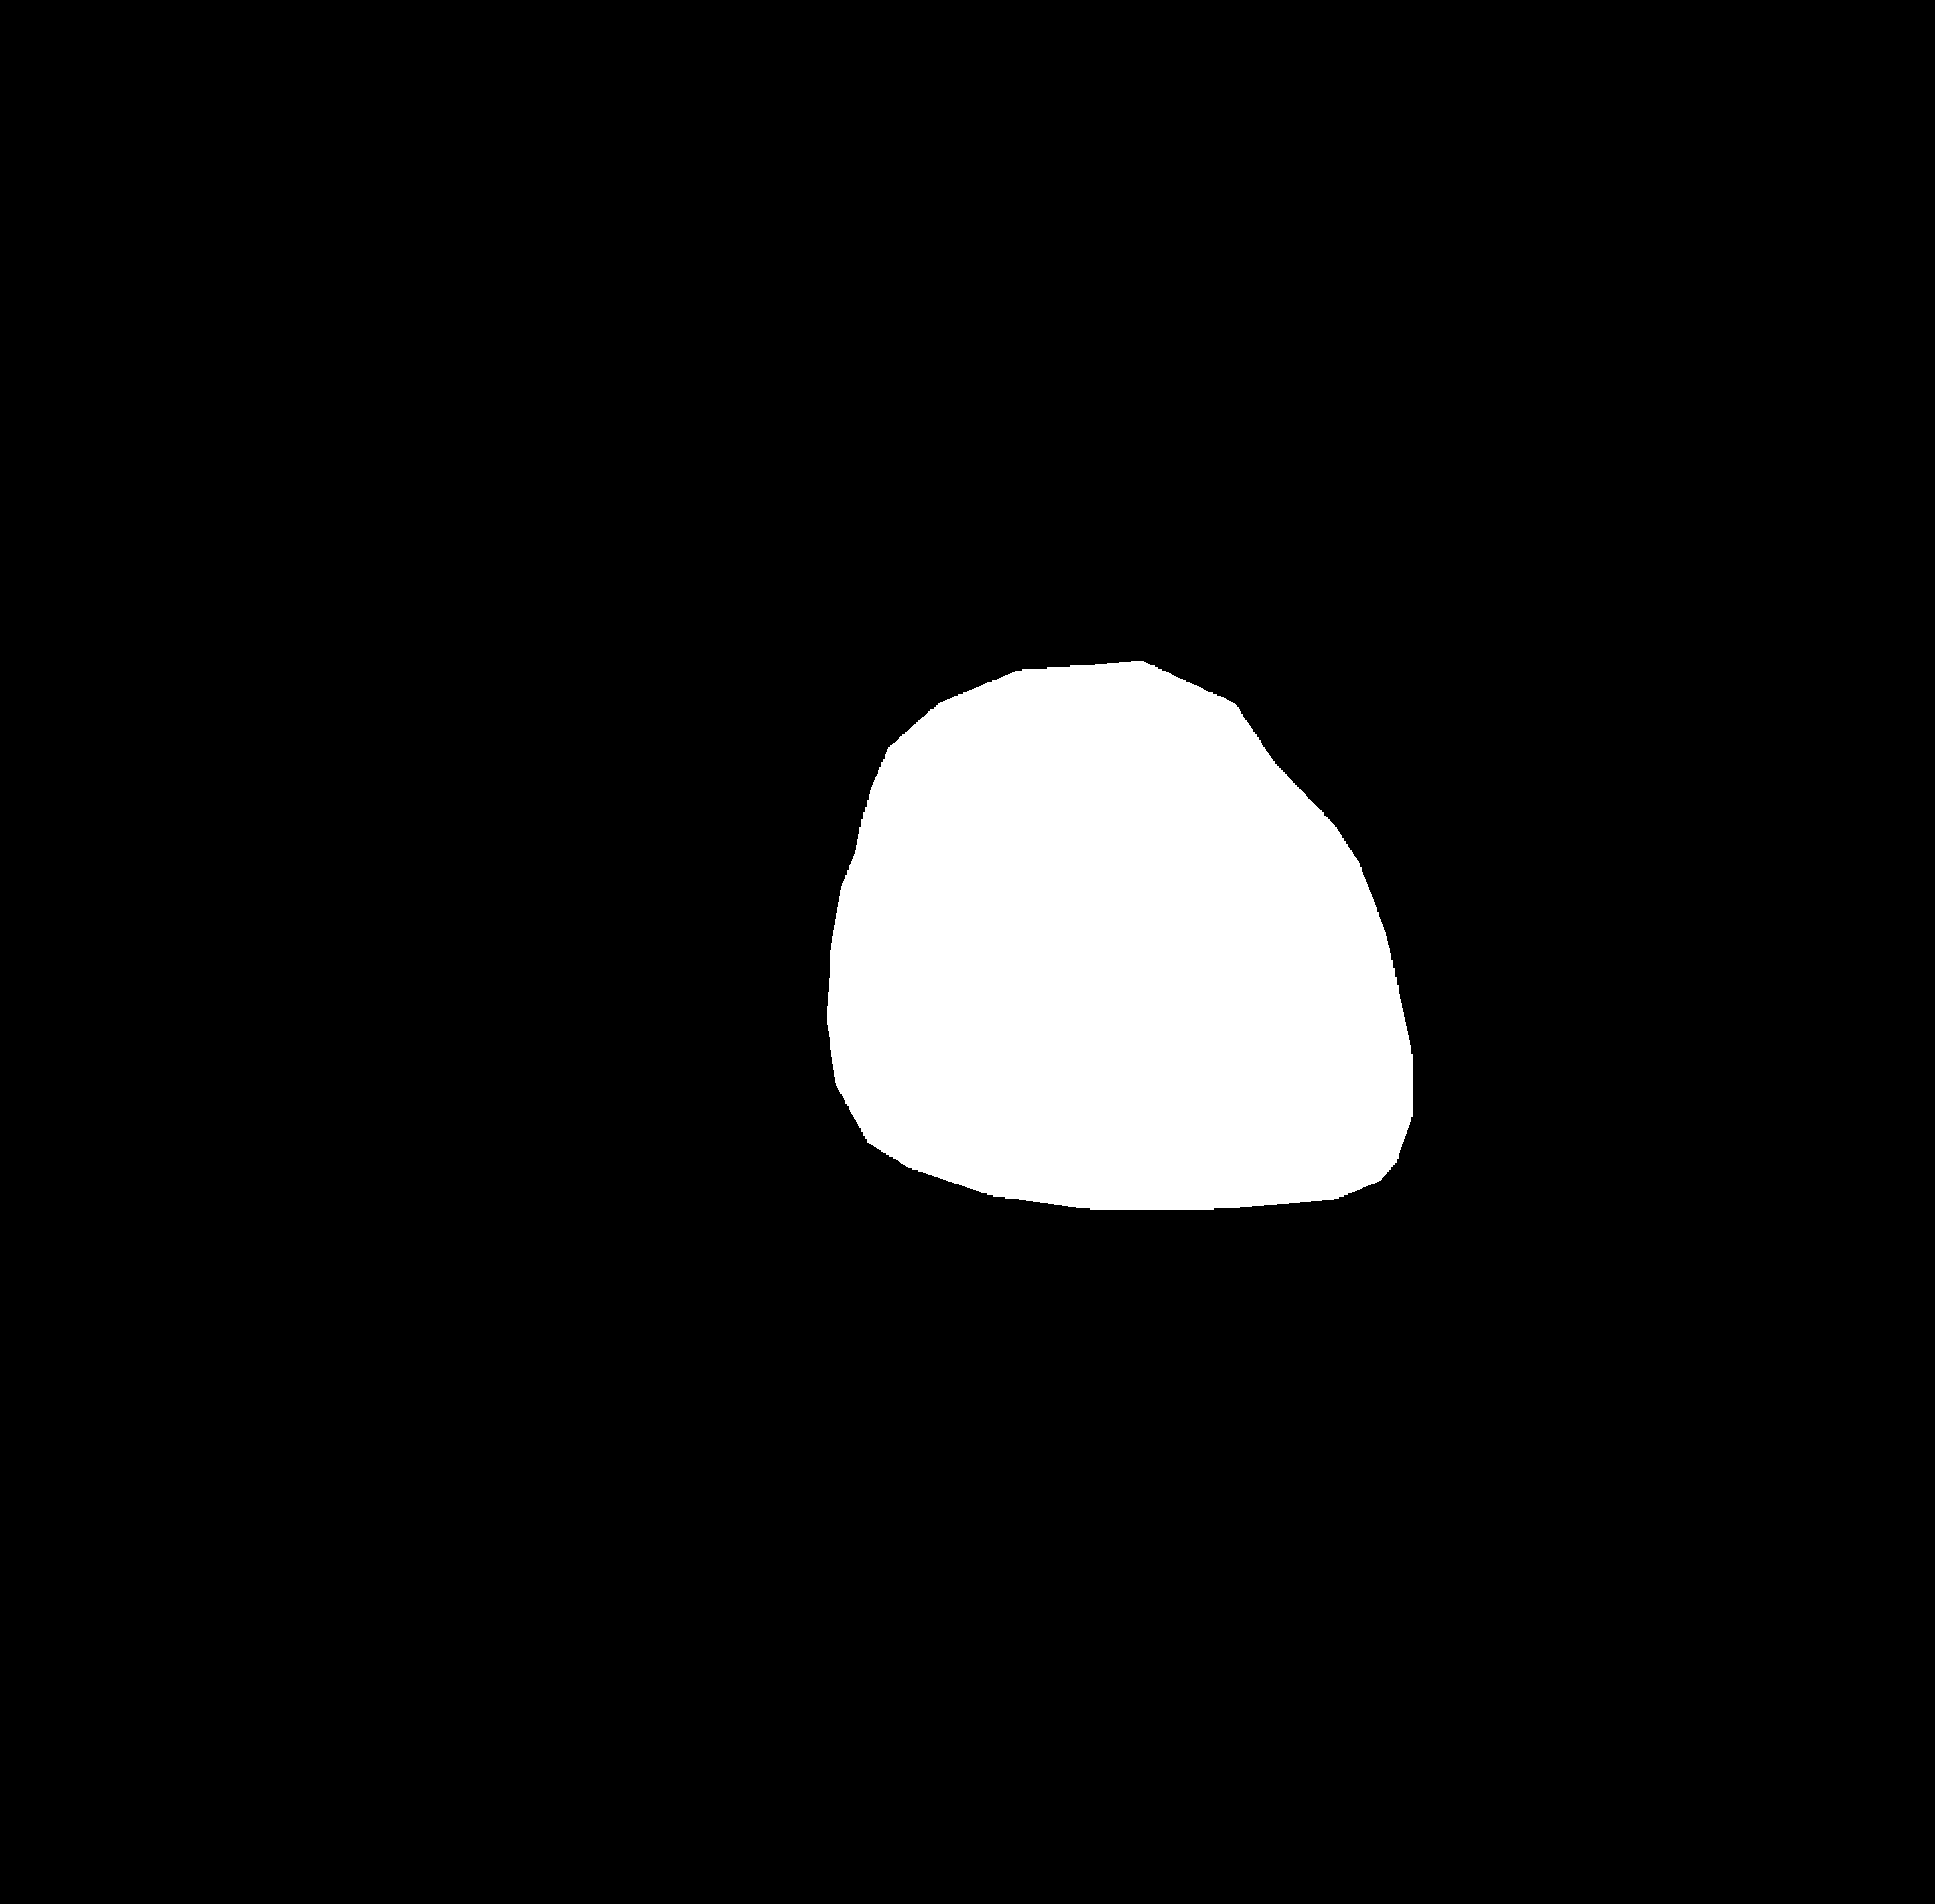heart: (830, 741, 1407, 1219)
left_lung: (364, 150, 976, 1353)
right_lung: (1091, 136, 1686, 1341)
